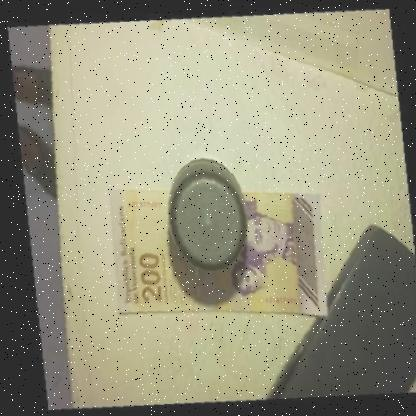two_hundred-front-vef: (102, 183, 329, 322)
